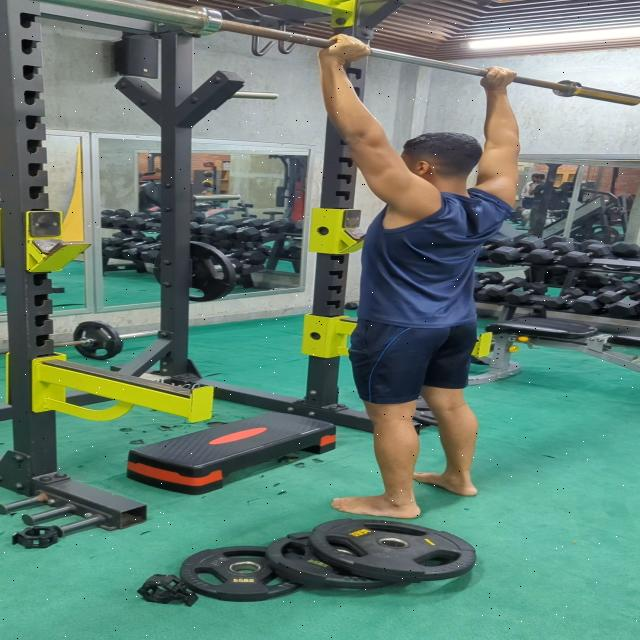Normal_OverheadPress: (296, 27, 524, 518)
